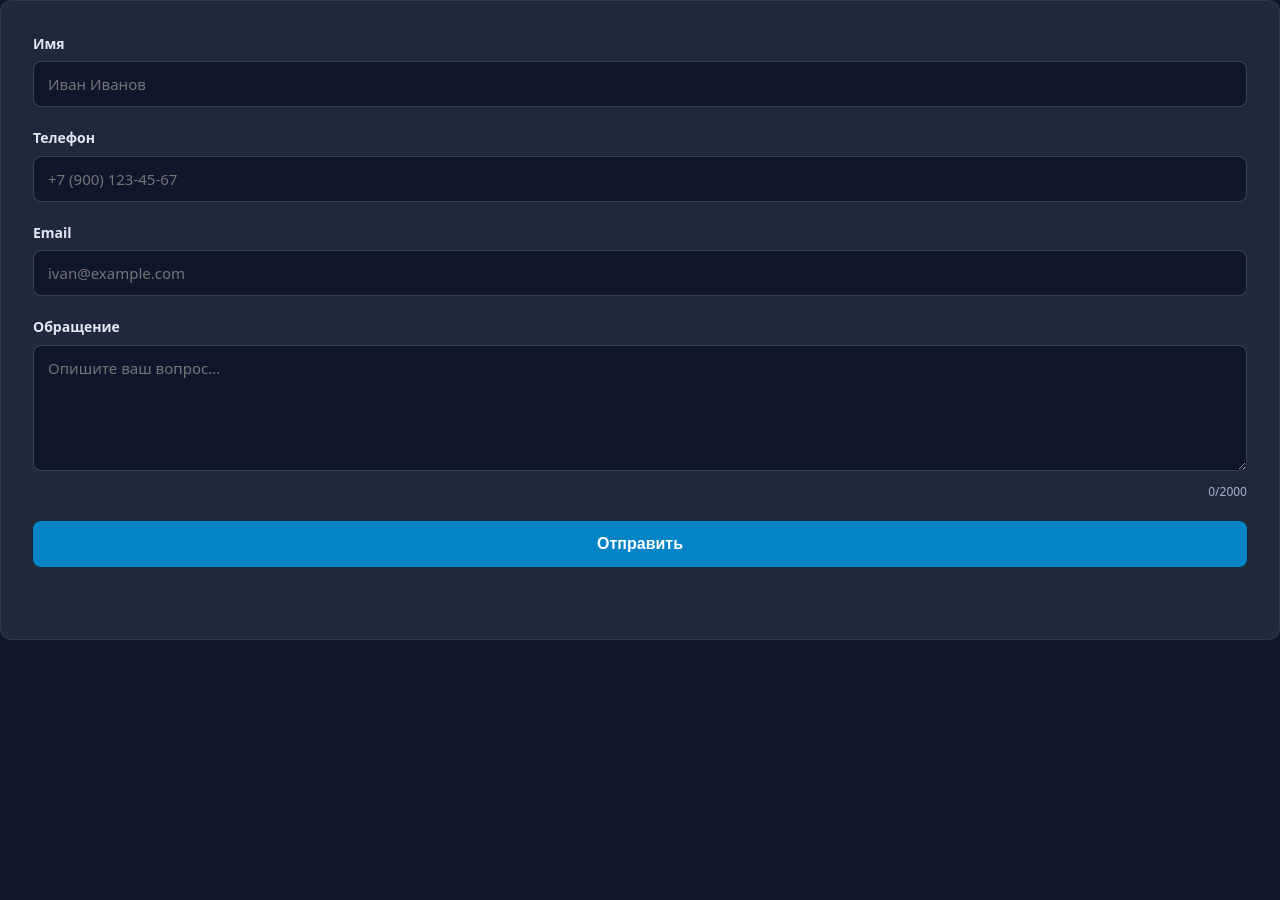
Test: ContactForm › снимает ошибку поля сразу при исправлении (перевалидация на change)
Click the button "Отправить".
click(640, 544)  # box [33, 521, 1247, 567]
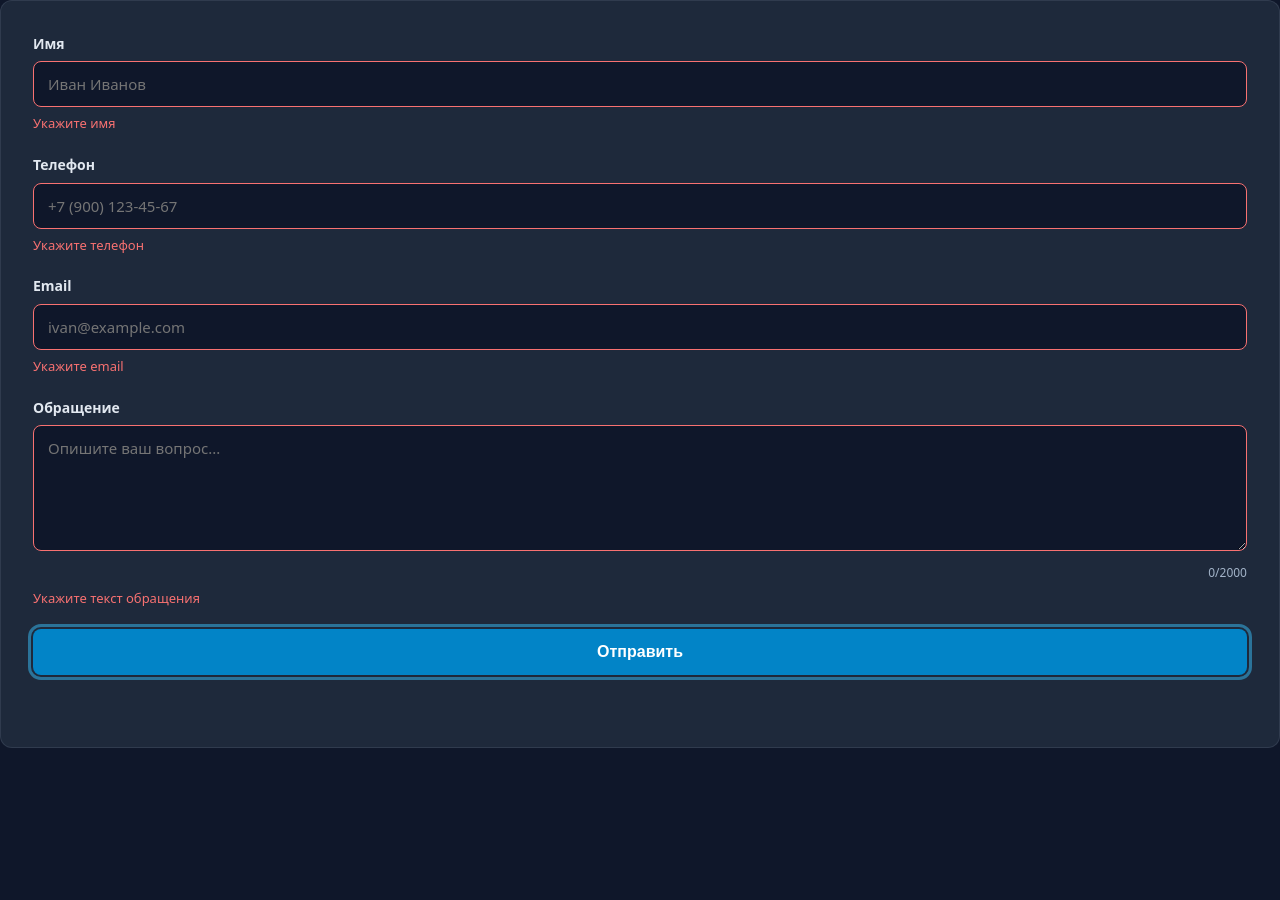
Result: the text "Укажите имя" is shown at [33, 114, 116, 132]
Type "Иван" into the field labelled "Имя".
click(640, 84); type("Иван")  # box [33, 61, 1247, 107]
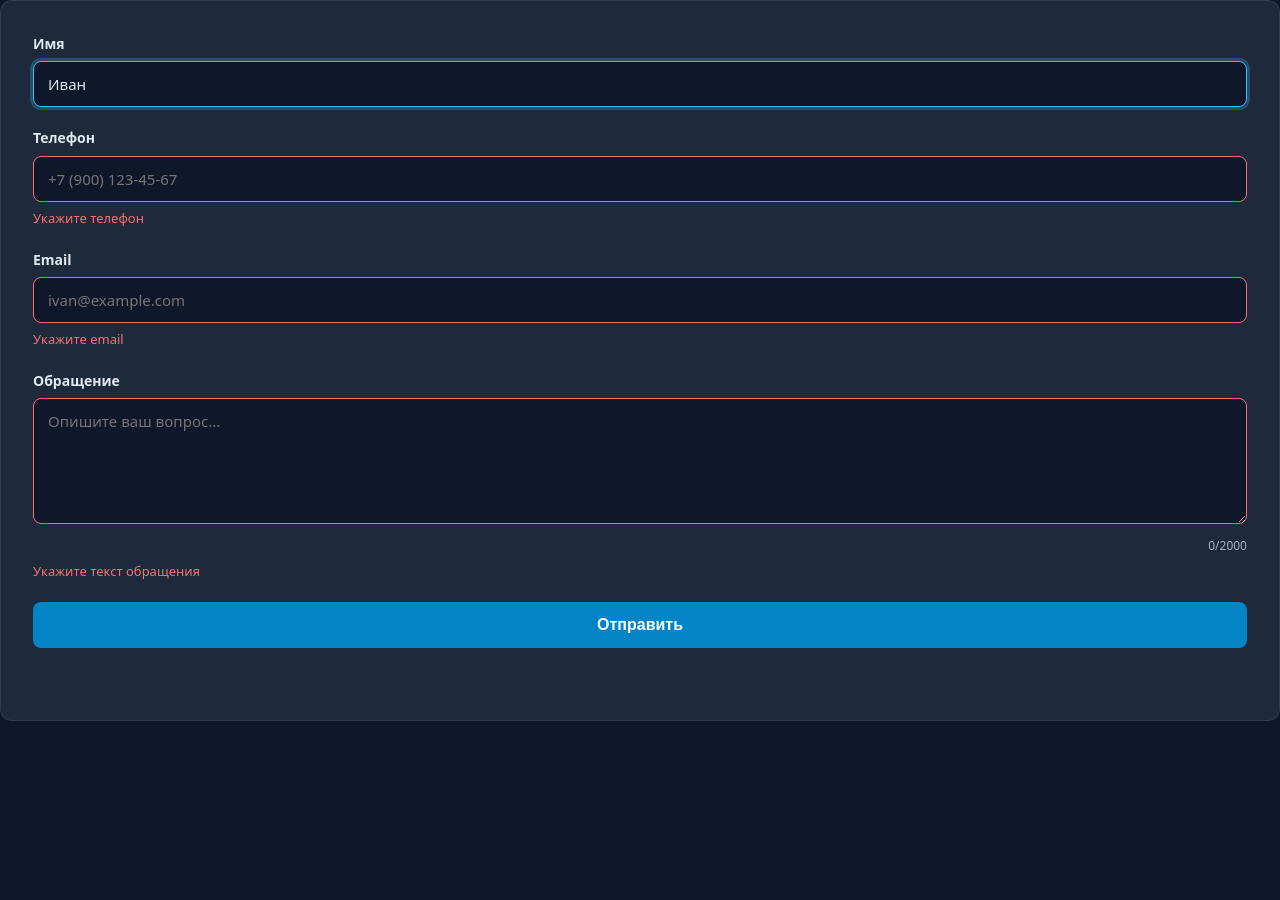
Result: the text "Укажите имя" is gone
